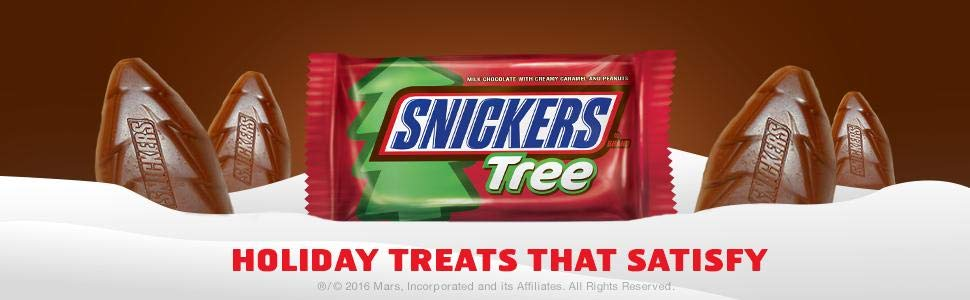snickers: (388, 95, 613, 148)
